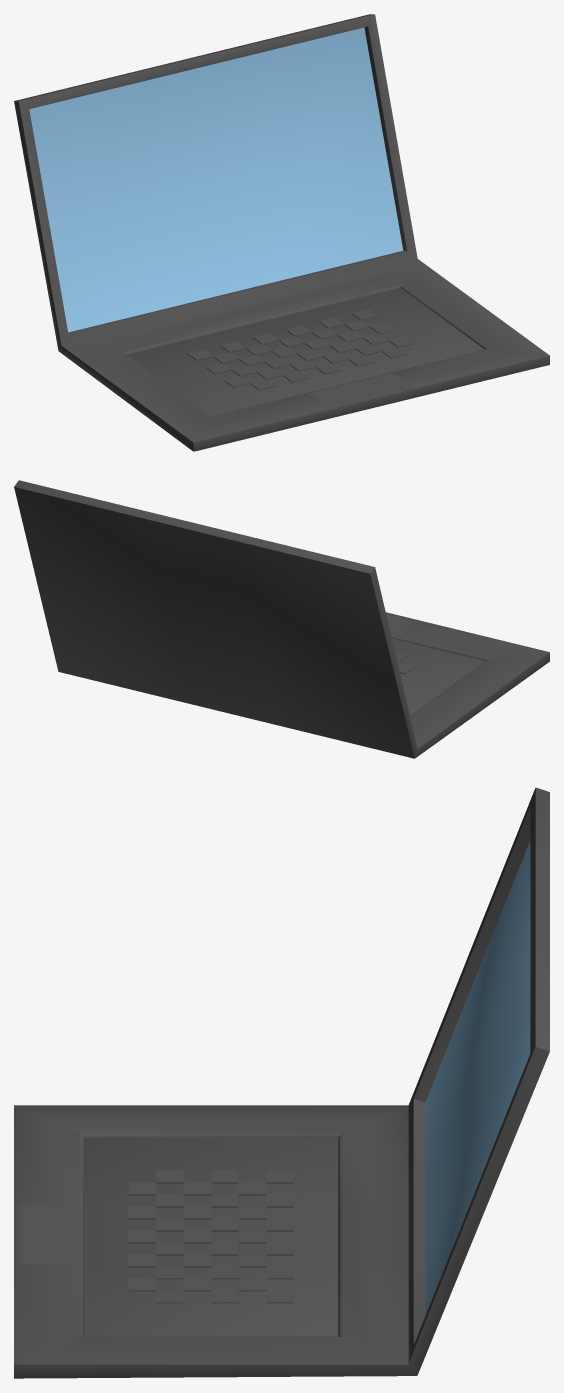
Rendered from Laptop.fbx.
The picture shows the model from 3 angles, top to bottom: view 1: azimuth 30°, elevation 25°; view 2: azimuth 150°, elevation 25°; view 3: azimuth 270°, elevation 25°; orthographic projection. The views are drawn at different scales.
Parts seen in each view (by area): view 1: Laptop; view 2: Laptop; view 3: Laptop.
Boxes of the visible parts, box(x1,y1,x2,y2) form: Laptop: box(14, 14, 549, 451); Laptop: box(14, 480, 549, 758); Laptop: box(14, 787, 549, 1378).
Bounding box in the file's own units: 280 × 167 × 245.
